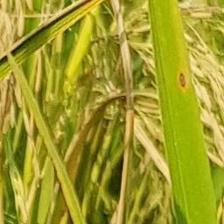0 BrownSpot: (175, 65, 191, 92)
